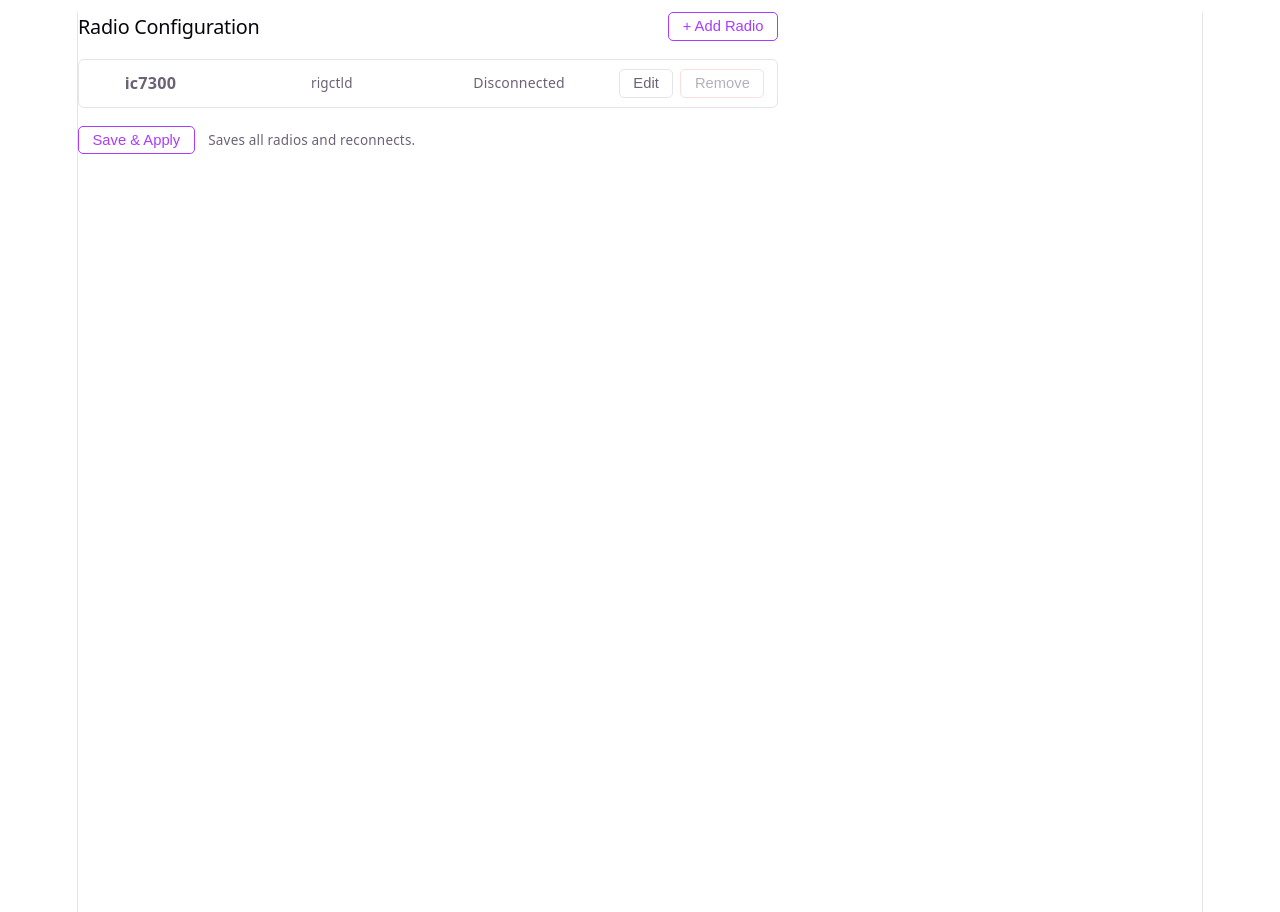
Test: RadioConfig › shows error banner when save request fails
This screenshot has width=1280, height=912.
Check: the text "ic7300" is shown, box [125,72,176,94]
Click the button "Save & Apply" at (136, 140), box [78,126,195,154]
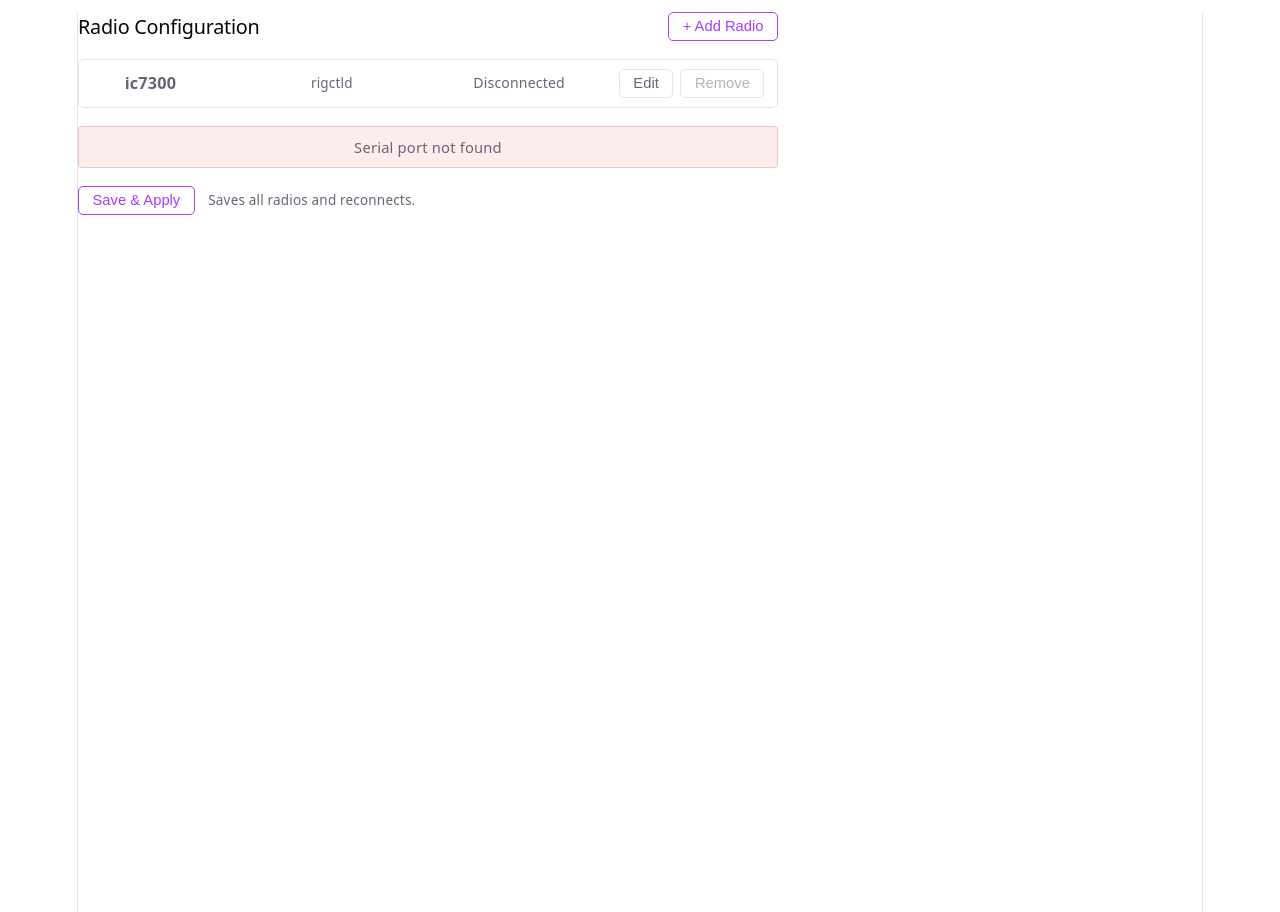
Check: the text "Serial port not found" is shown, box [78,126,778,168]
